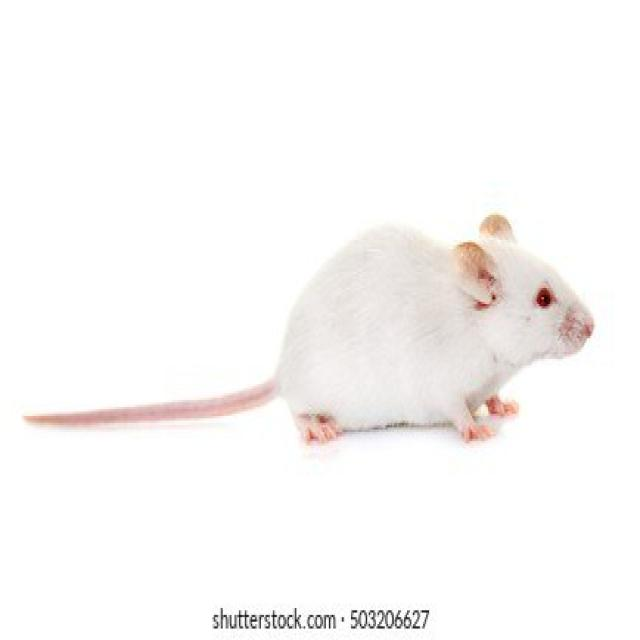Mouse: (24, 215, 592, 457)
